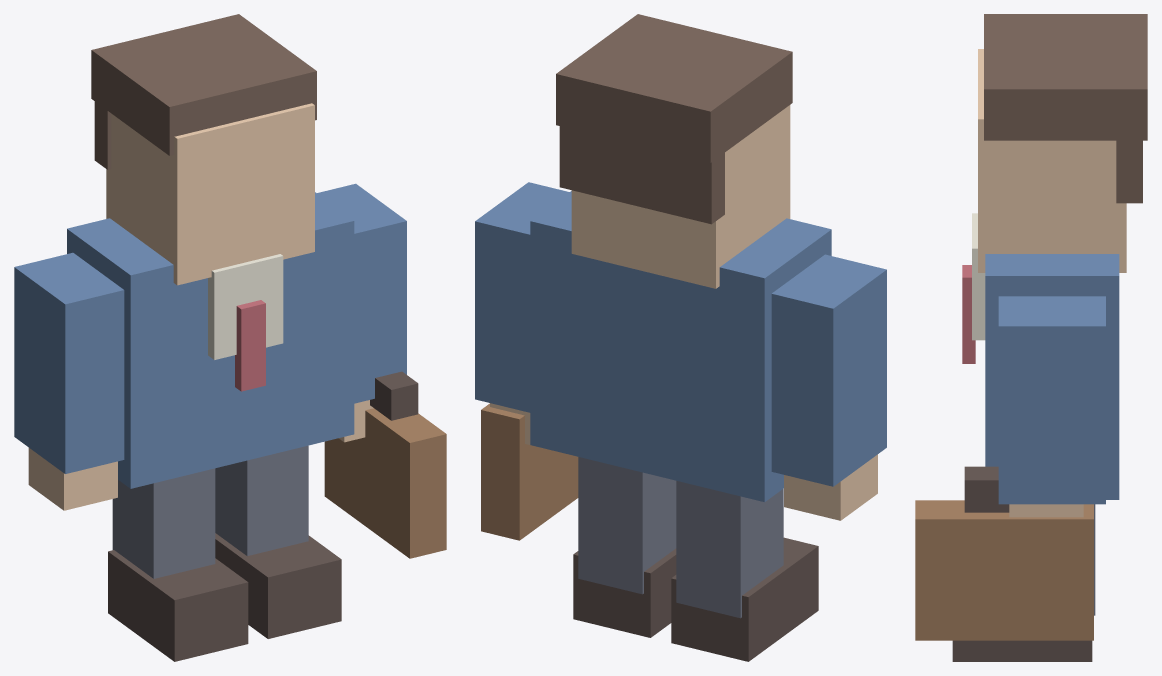
Rendered from clerk_1985.gltf.
The picture shows the model from 3 angles, left to right: view 1: azimuth 30°, elevation 25°; view 2: azimuth 150°, elevation 25°; view 3: azimuth 270°, elevation 25°; orthographic projection. The views are drawn at different scales.
Visible parts, largest first — view 1: clerk_1985; view 2: clerk_1985; view 3: clerk_1985.
Part boxes in pixels (left/top/right/bottom): clerk_1985: left=14, top=14, right=446, bottom=661; clerk_1985: left=475, top=14, right=886, bottom=661; clerk_1985: left=915, top=14, right=1147, bottom=661.
Size of the model in its own units: 1.39 by 2.11 by 0.78.
